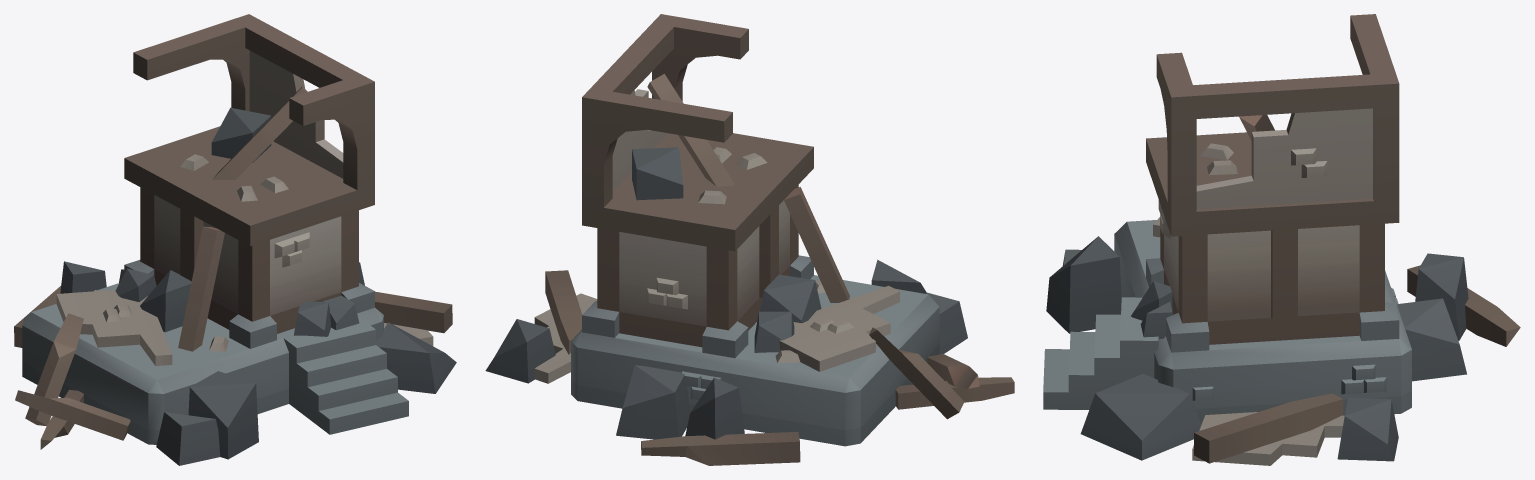
File: rubble.glb
The picture shows the model from 3 angles, left to right: view 1: azimuth 30°, elevation 25°; view 2: azimuth 150°, elevation 25°; view 3: azimuth 270°, elevation 25°; orthographic projection. The views are drawn at different scales.
Visible parts, largest first — view 1: building_destroyed; view 2: building_destroyed; view 3: building_destroyed.
Part boxes in pixels (<box>): building_destroyed: <box>14,14,456,465</box>; building_destroyed: <box>485,14,1014,465</box>; building_destroyed: <box>1043,14,1520,465</box>.
Bounding box in the file's own units: 1.54 × 0.9939 × 1.31.
Materials: 1 (1 with a texture image).
